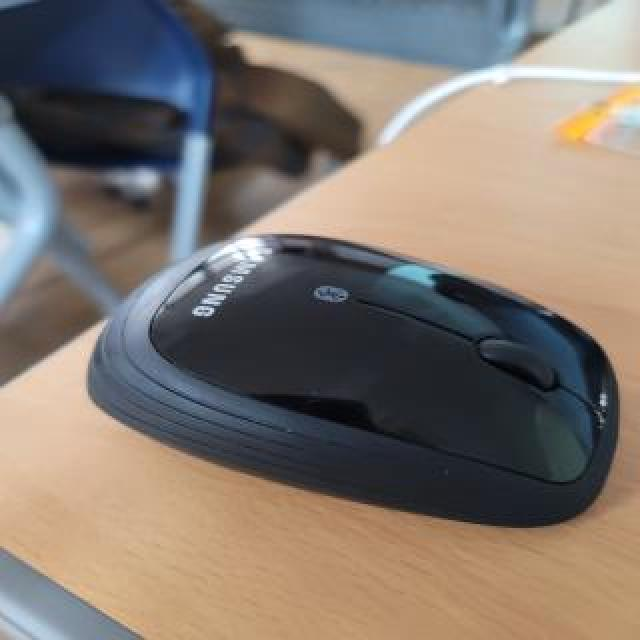mouse: (81, 215, 633, 548)
